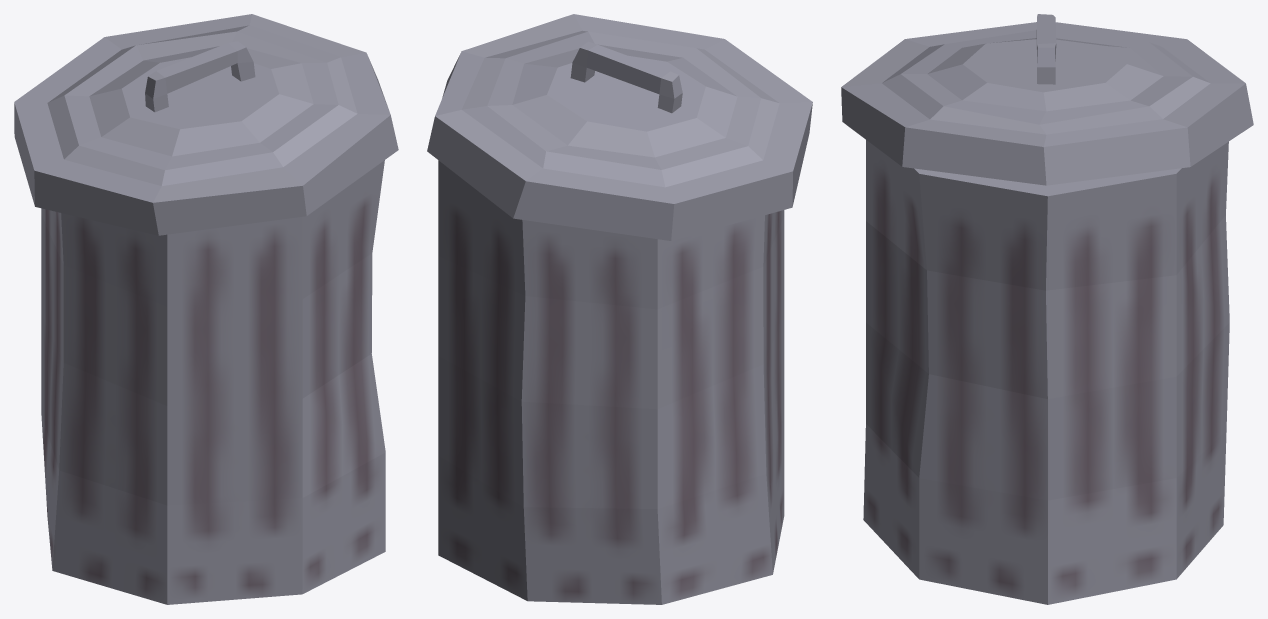
File: trashcan.fbx
3 views of the same model, side by side, from view 1: azimuth 30°, elevation 25°; view 2: azimuth 150°, elevation 25°; view 3: azimuth 270°, elevation 25° (orthographic). The views are drawn at different scales.
Visible parts, largest first — view 1: Cylinder; view 2: Cylinder; view 3: Cylinder.
Part boxes in pixels (x1,y1,x2,y2): Cylinder: [14, 14, 398, 604]; Cylinder: [427, 14, 812, 604]; Cylinder: [841, 14, 1253, 604].
Bounding box in the file's own units: 2.23 × 2.27 × 2.99.
